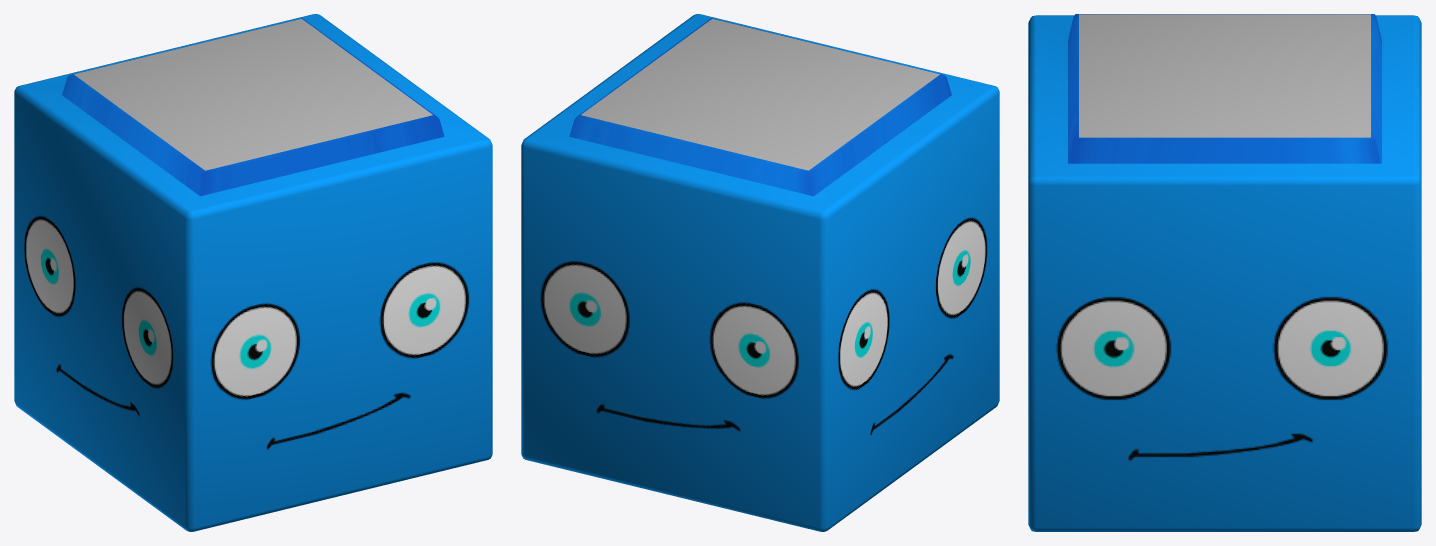
File: Menu_Boton.fbx
3 views of the same model, side by side, from view 1: azimuth 30°, elevation 25°; view 2: azimuth 150°, elevation 25°; view 3: azimuth 270°, elevation 25° (orthographic). The views are drawn at different scales.
Visible parts, largest first — view 1: Basic_Cube:Basic_Cube; view 2: Basic_Cube:Basic_Cube; view 3: Basic_Cube:Basic_Cube.
Boxes of the visible parts, x1,y1,x2,y2 form: Basic_Cube:Basic_Cube: (14, 14, 492, 531); Basic_Cube:Basic_Cube: (521, 14, 999, 531); Basic_Cube:Basic_Cube: (1028, 14, 1421, 531).
Bounding box in the file's own units: 100 × 105 × 100.
